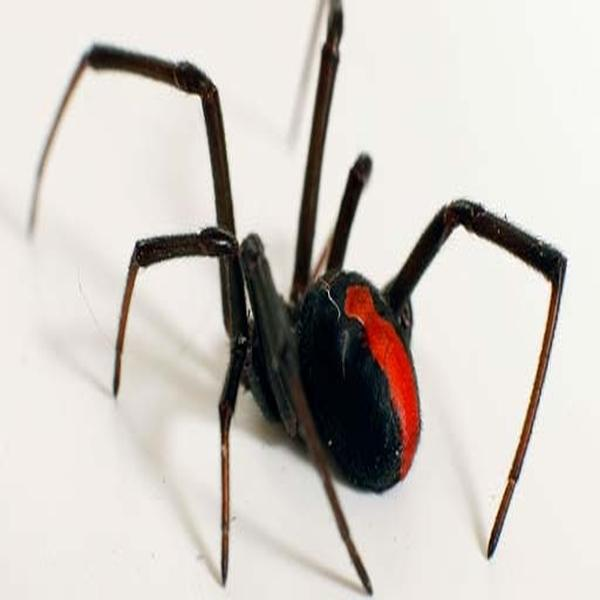Redback Spider: (36, 3, 564, 591)
